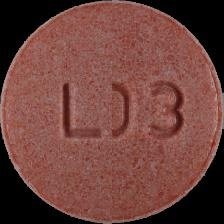68180-568: (0, 0, 224, 224)
